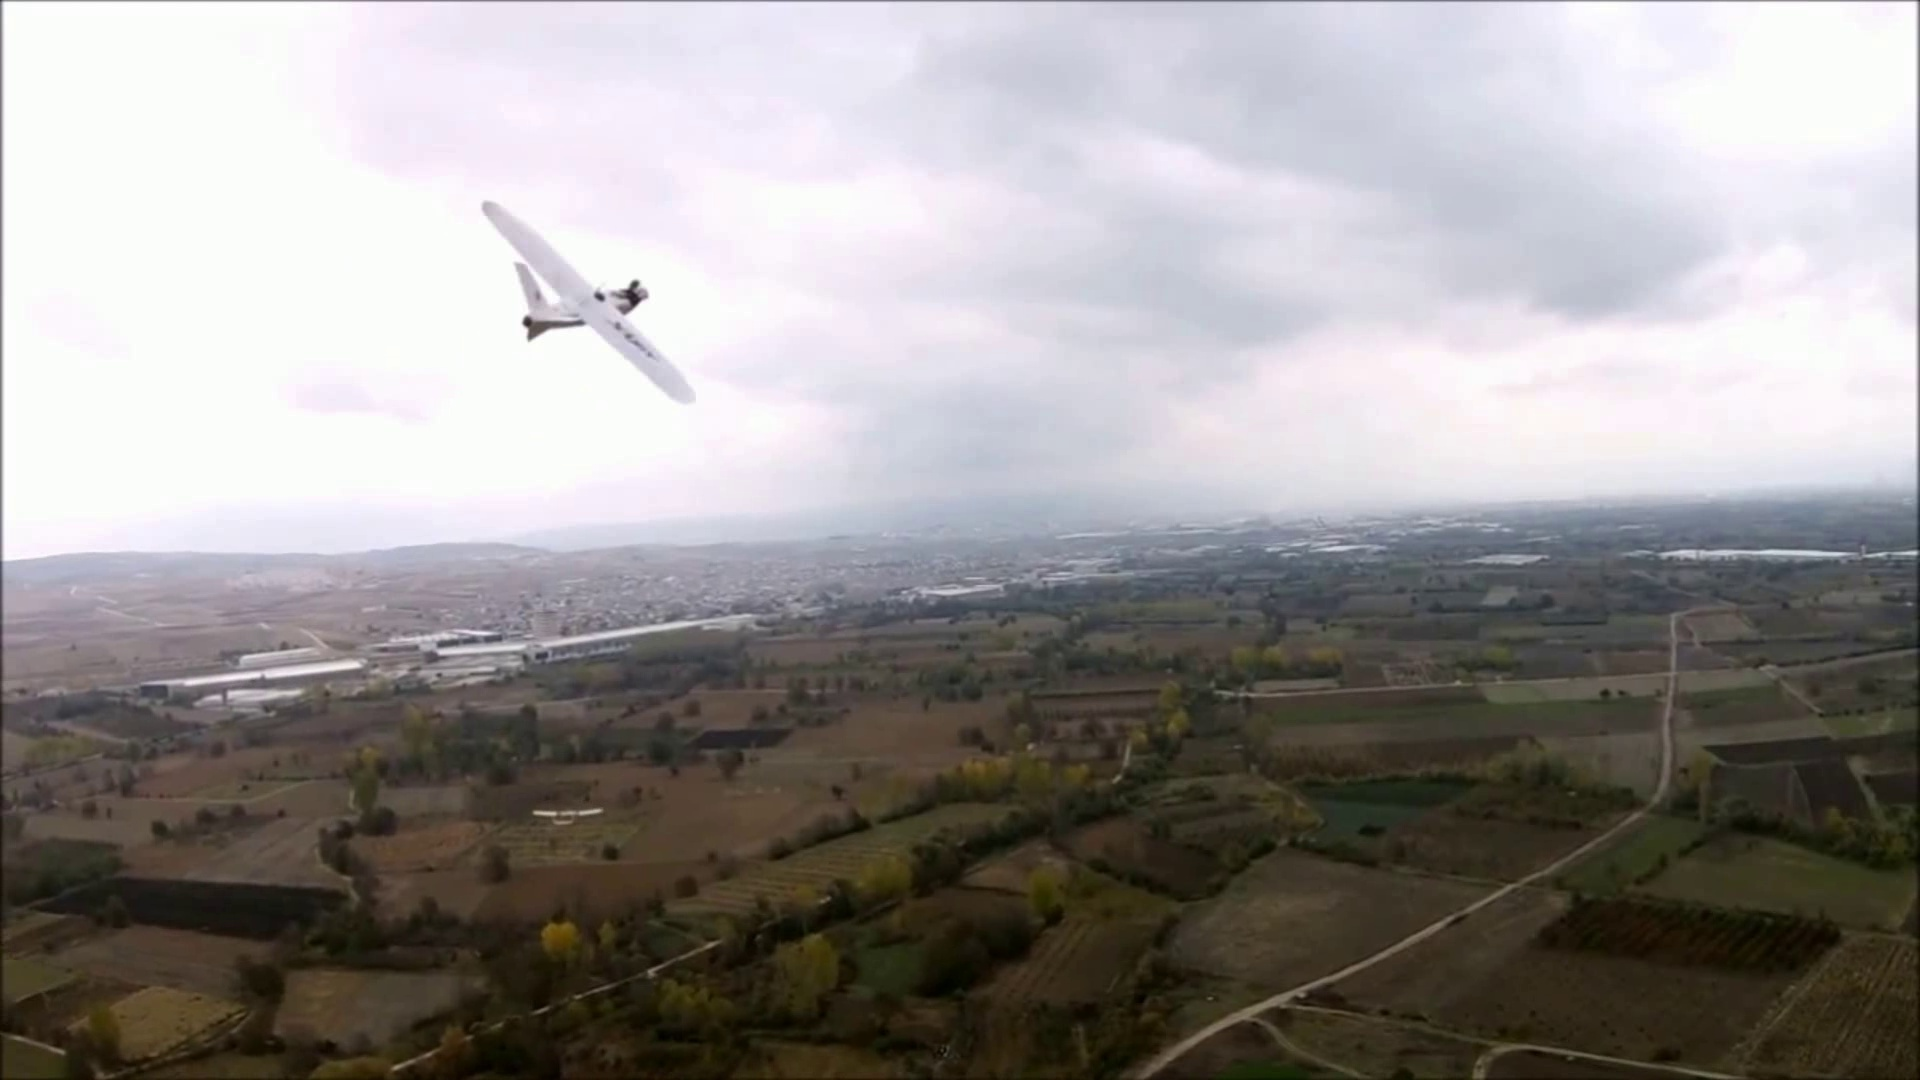airplane: (477, 200, 697, 406)
